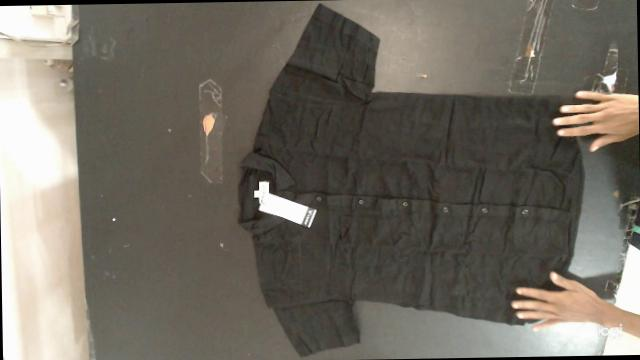new-garment: (239, 4, 583, 355)
